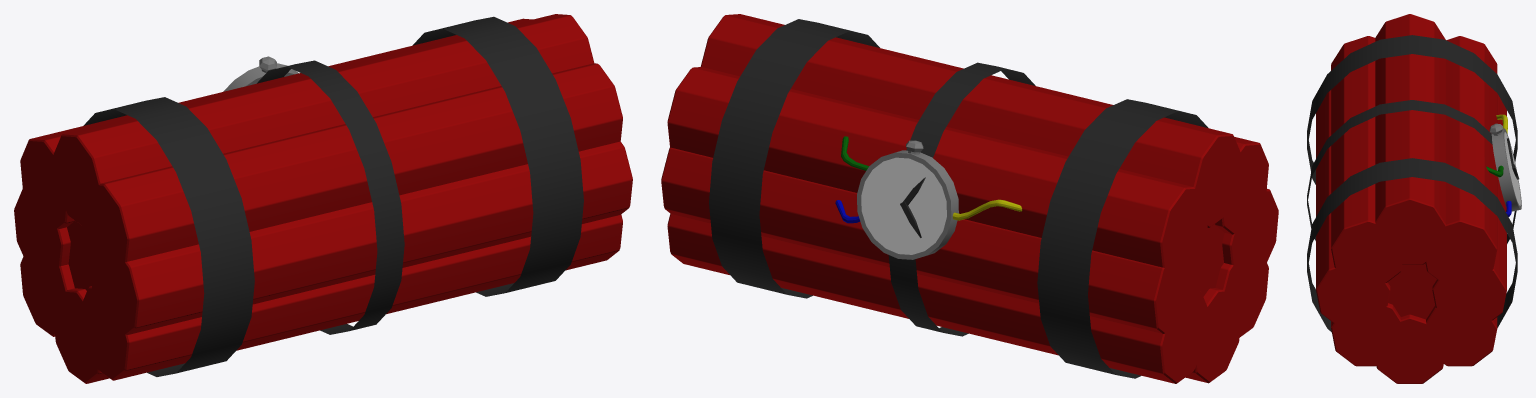
File: Bomb.fbx
3 renders of one model, left to right at view 1: azimuth 30°, elevation 25°; view 2: azimuth 150°, elevation 25°; view 3: azimuth 270°, elevation 25°, orthographic. The views are drawn at different scales.
Parts seen in each view (by area): view 1: pCylinder5, pCylinder3, pCylinder1, pCylinder7, pCylinder10, pCylinder11, pCylinder13, pCylinder6, pCylinder8, pCylinder2, pCylinder4, pCylinder9 (+1 smaller); view 2: pCylinder6, pCylinder1, pCylinder4, pCylinder8, pCylinder10, pCylinder11, pCylinder12, pCylinder13, pCylinder2, pCylinder5, pCylinder3, pCylinder7 (+1 smaller); view 3: pCylinder1, pCylinder6, pCylinder5, pCylinder3, pCylinder10, pCylinder11, pCylinder4, pCylinder8, pCylinder7, pCylinder2, pCylinder13, pCylinder9 (+1 smaller).
Boxes of the visible parts, box(x1,y1,x2,y2) form: pCylinder5: box(80, 63, 622, 275); pCylinder3: box(90, 141, 632, 334); pCylinder1: box(53, 14, 594, 226); pCylinder7: box(80, 214, 622, 380); pCylinder10: box(412, 16, 583, 296); pCylinder11: box(83, 97, 254, 376); pCylinder13: box(257, 60, 404, 334); pCylinder6: box(20, 18, 532, 231); pCylinder8: box(20, 244, 74, 336); pCylinder2: box(53, 288, 109, 383); pCylinder4: box(14, 189, 70, 279); pCylinder9: box(67, 220, 92, 290); pCylinder6: box(667, 67, 1209, 278); pCylinder1: box(700, 14, 1241, 227); pCylinder4: box(661, 147, 1202, 333); pCylinder8: box(667, 214, 1209, 383); pCylinder10: box(709, 19, 879, 298); pCylinder11: box(1037, 99, 1208, 378); pCylinder12: box(857, 150, 958, 259); pCylinder13: box(888, 62, 1035, 336); pCylinder2: box(1185, 288, 1241, 383); pCylinder5: box(1215, 137, 1268, 235); pCylinder3: box(1222, 189, 1278, 278); pCylinder7: box(1215, 248, 1268, 338); pCylinder1: box(1374, 14, 1445, 264); pCylinder6: box(1424, 36, 1497, 286); pCylinder5: box(1331, 36, 1404, 286); pCylinder3: box(1316, 90, 1390, 327); pCylinder10: box(1307, 158, 1517, 332); pCylinder11: box(1307, 35, 1517, 184); pCylinder4: box(1432, 93, 1506, 327); pCylinder8: box(1424, 301, 1497, 366); pCylinder7: box(1331, 301, 1404, 366); pCylinder2: box(1374, 314, 1445, 383); pCylinder13: box(1307, 100, 1516, 243); pCylinder9: box(1388, 263, 1436, 319).
Bounding box in the file's own units: 11.54 × 5.54 × 5.65.
